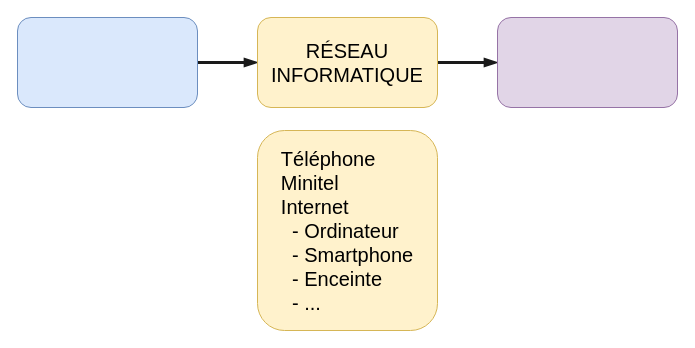
The diagram is 695 pixels wide and 348 high, and some of its shapes have lost their labels. The box of each missing label's shape, as (x1, y1, x2, y2) in pixels:
PRODUIT: (16, 16, 198, 108)
TRANSACTION: (496, 16, 678, 108)
